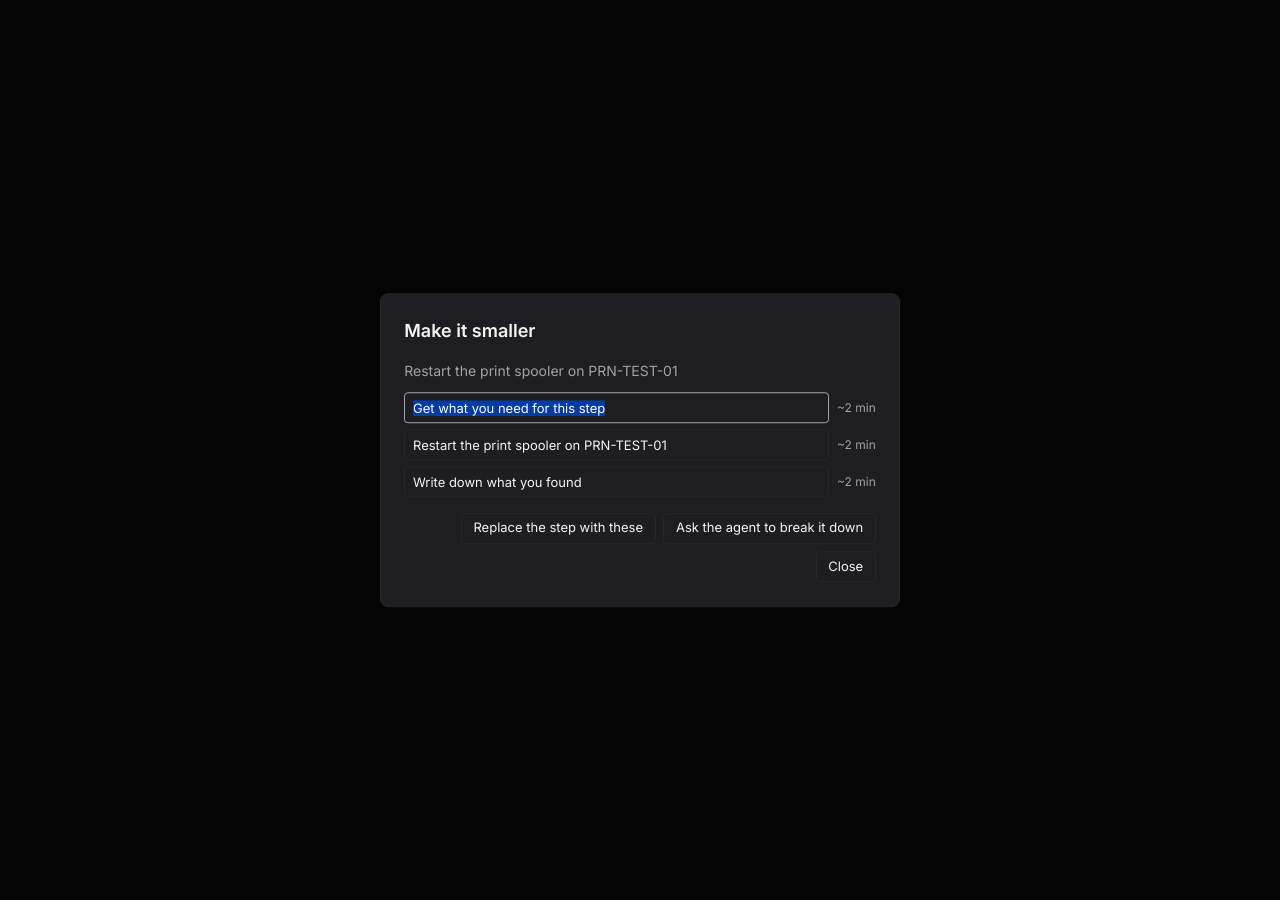
Test: MakeSmallerDialog › test a refusal shows its message
Click the button "Replace the step with these" at (558, 528), box [461,513,656,544]
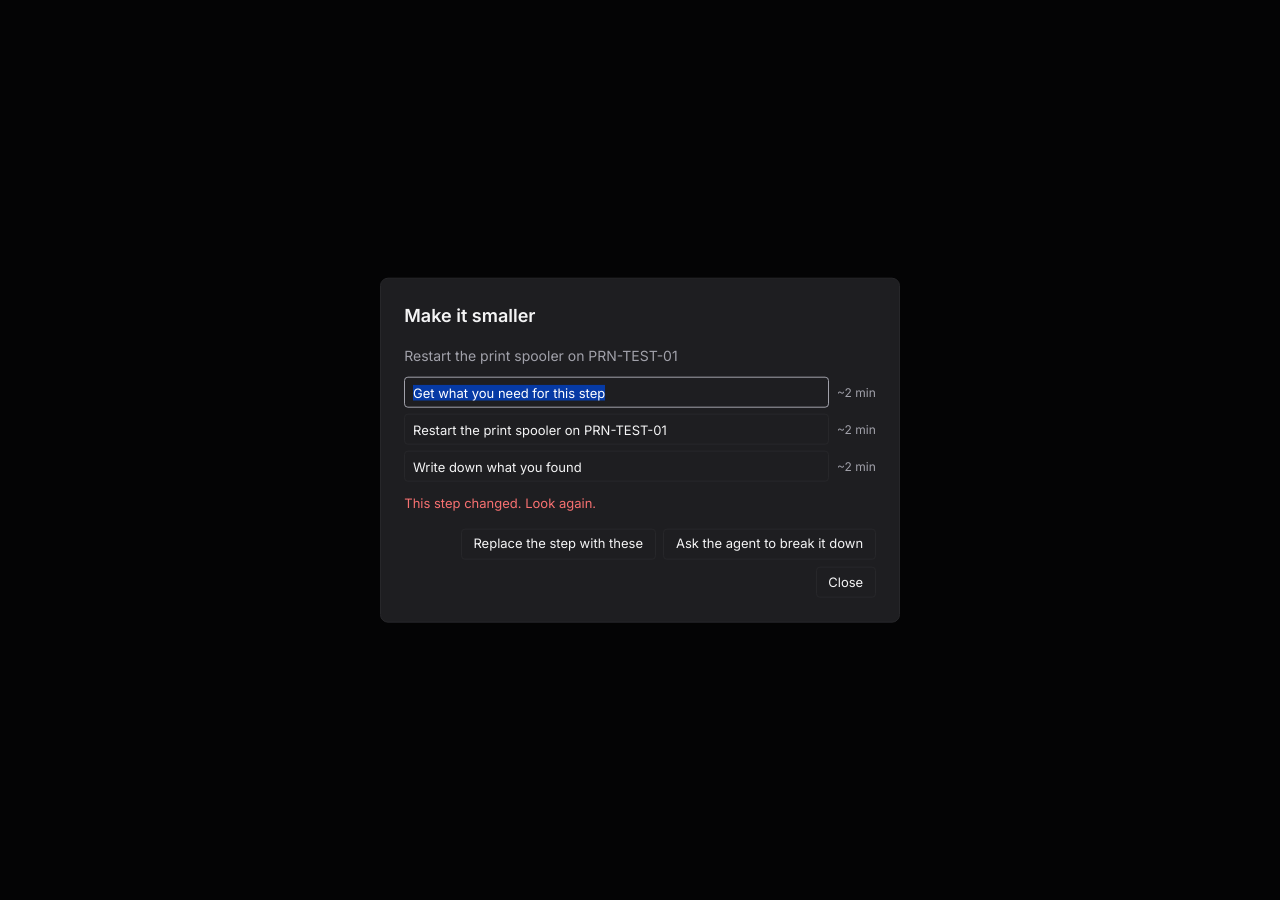
expect the text "This step changed. Look again." is shown: met, box [404,494,596,510]
